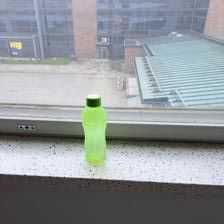bottle: (76, 90, 110, 162)
